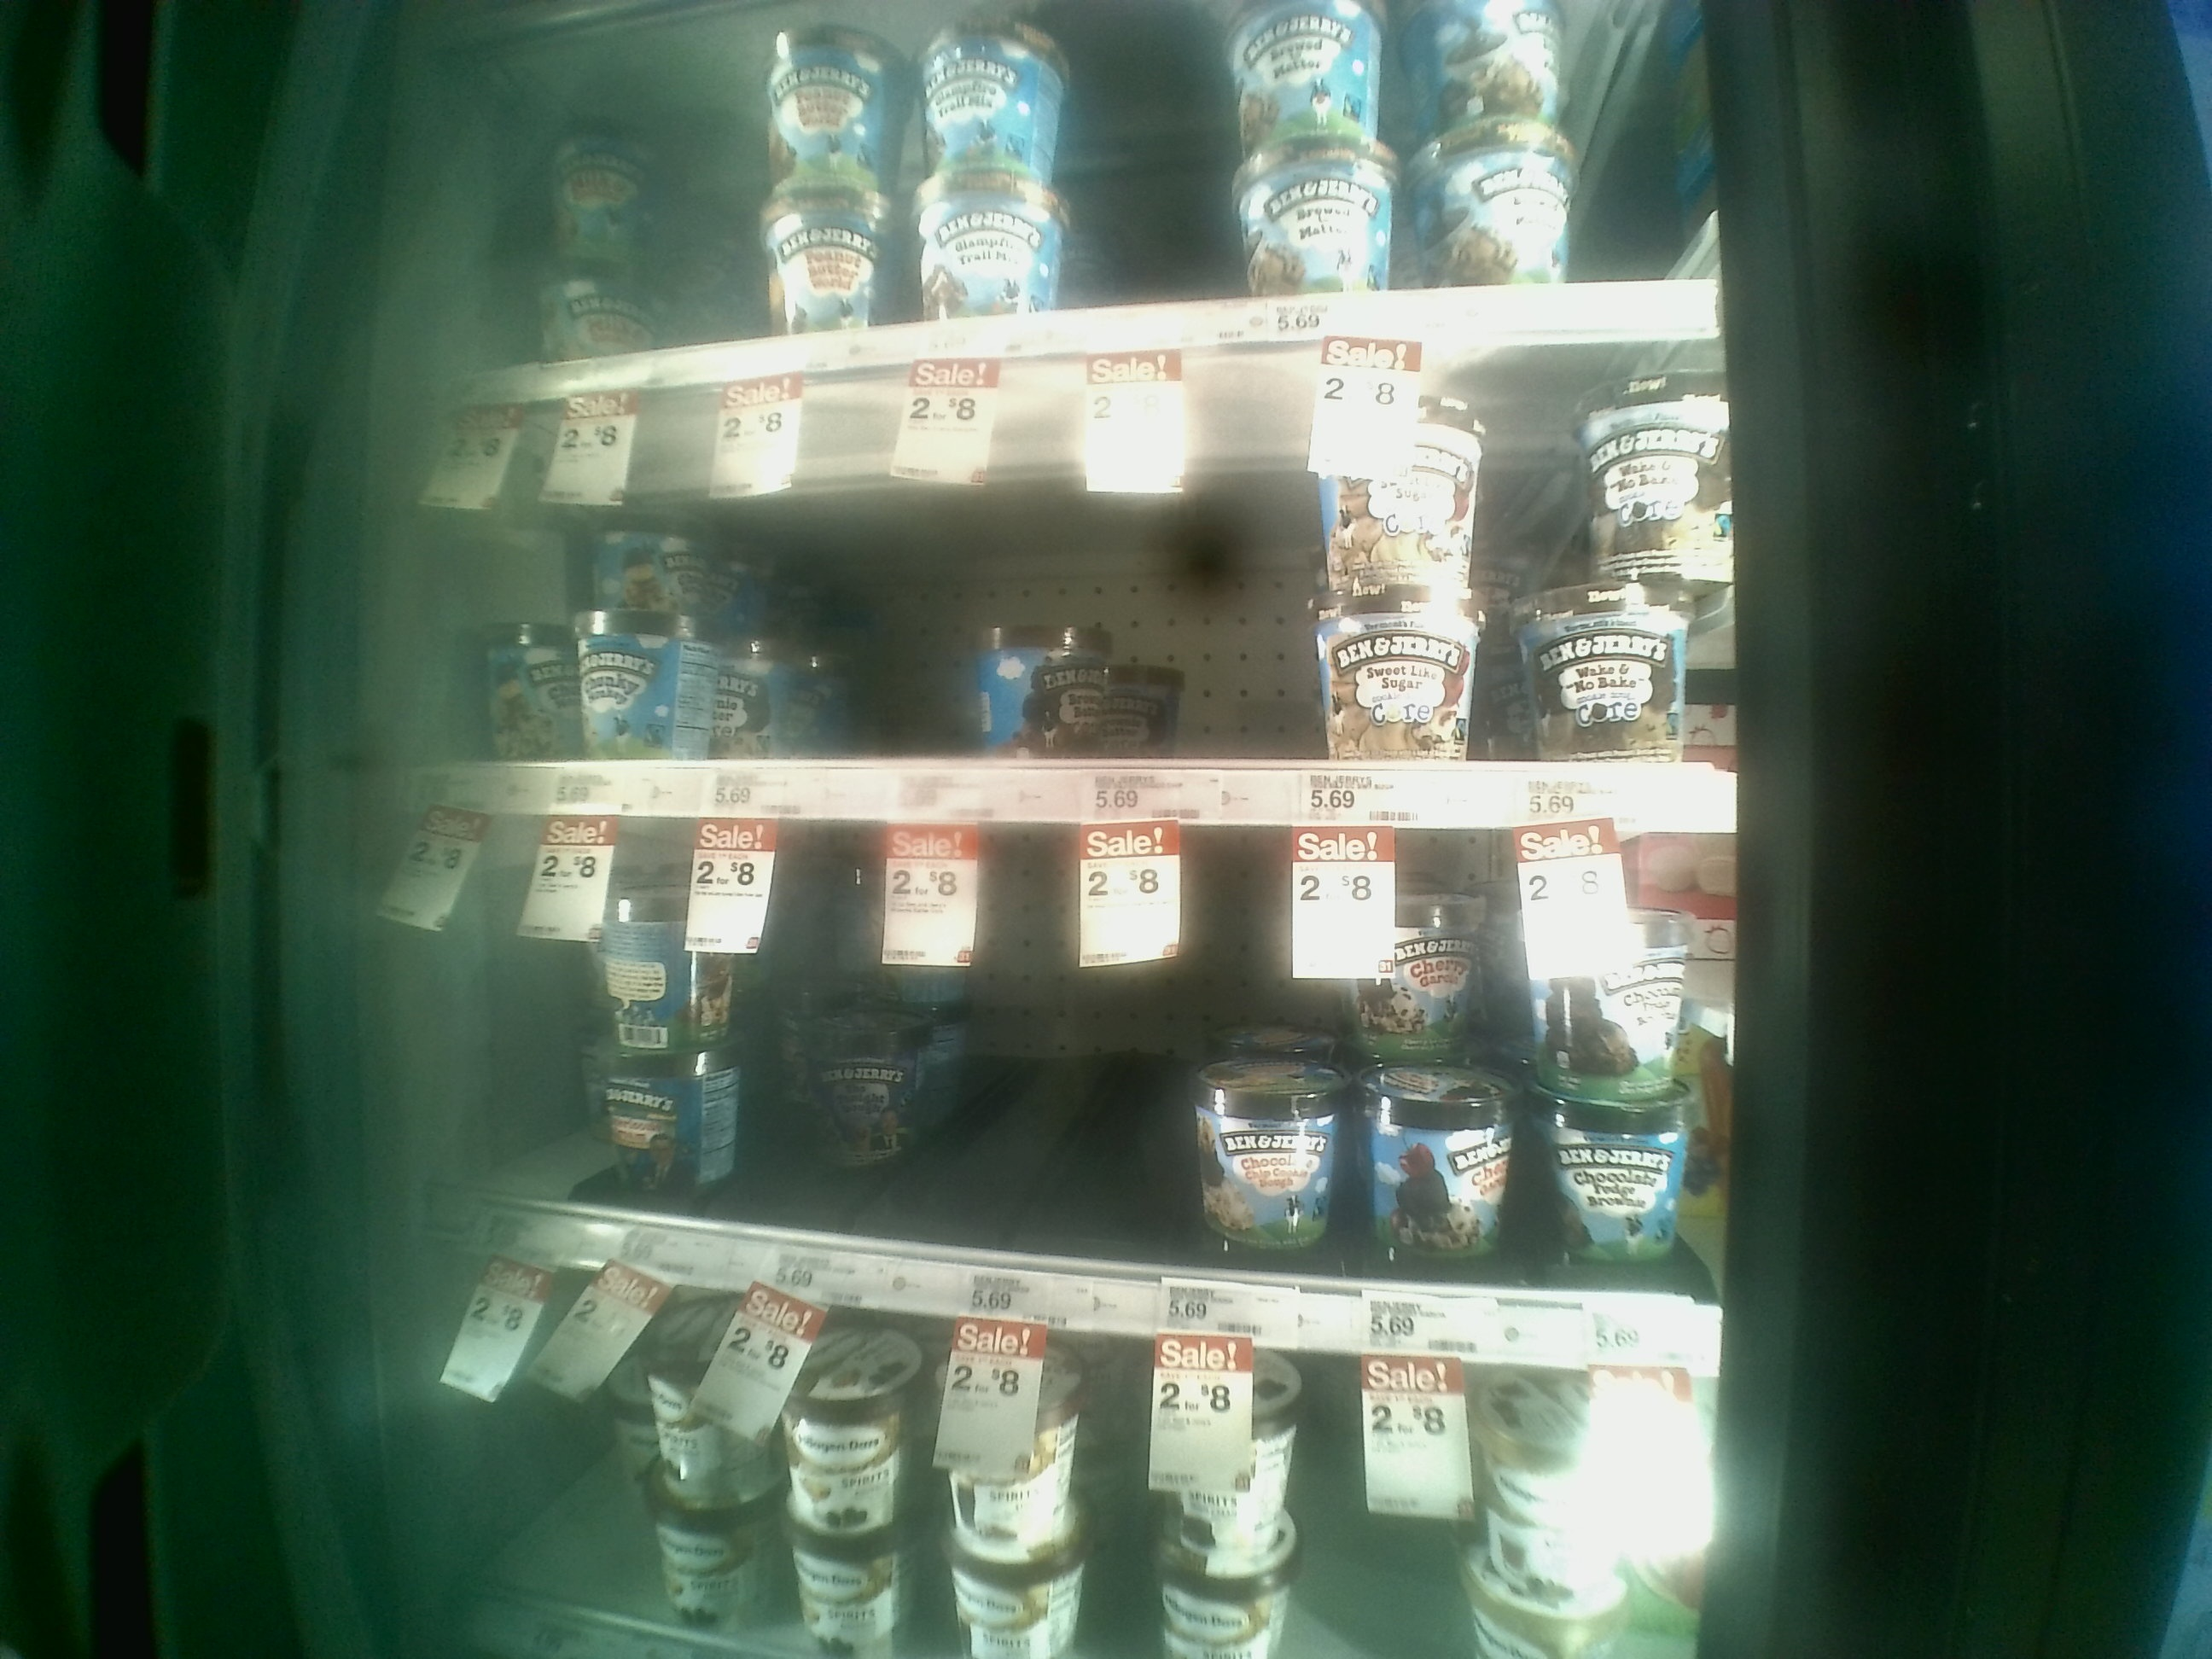shelf: (434, 828, 1724, 1378), (434, 336, 1737, 829)
